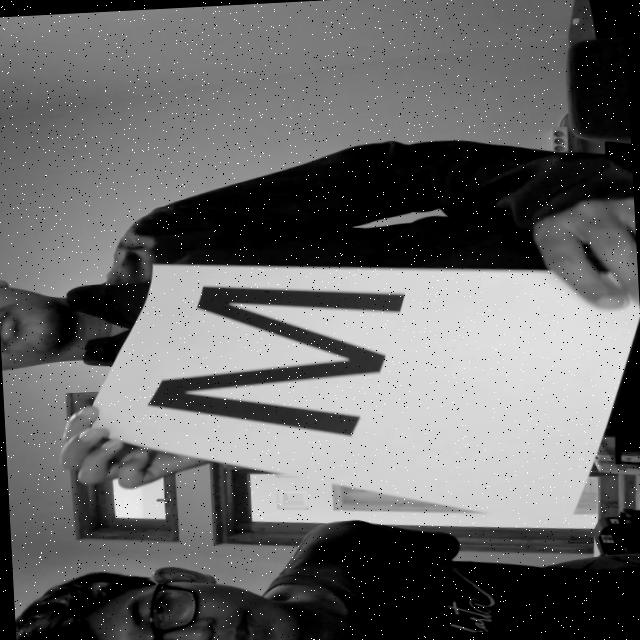m: (137, 264, 436, 451)
